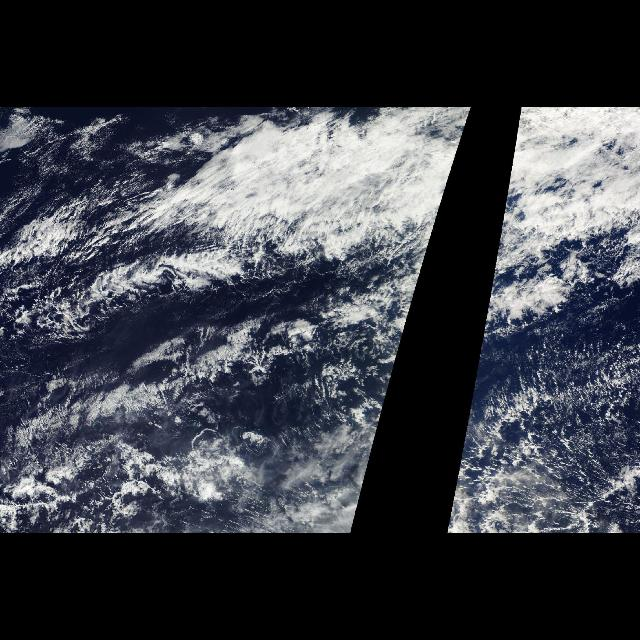Fish: (2, 204, 330, 304)
Sugar: (480, 357, 640, 533)
